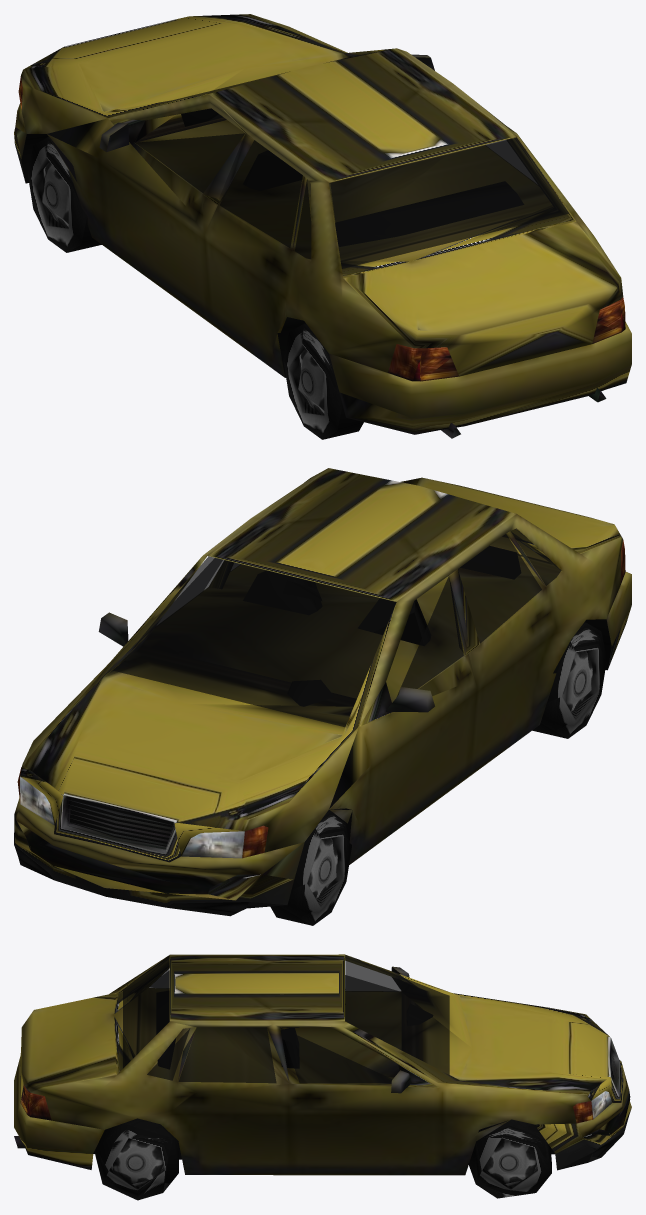
File: c_sedan_lo.glb
The picture shows the model from 3 angles, top to bottom: view 1: azimuth 30°, elevation 25°; view 2: azimuth 150°, elevation 25°; view 3: azimuth 270°, elevation 25°; orthographic projection. The views are drawn at different scales.
Visible parts, largest first — view 1: body|Body_5, body|glass, body|Wheel_4, body|Optics_5; view 2: body|Body_5, body|glass, body|Wheel_4, body|Optics_5; view 3: body|Body_5, body|glass, body|Wheel_4, body|Optics_5.
Boxes of the visible parts, x1,y1,x2,y2 form: body|Body_5: (14,14,631,438); body|glass: (135,48,568,268); body|Wheel_4: (27,137,363,439); body|Optics_5: (18,76,625,381); body|Body_5: (14,468,631,916); body|glass: (112,529,561,727); body|Wheel_4: (270,622,606,925); body|Optics_5: (17,540,625,878); body|Body_5: (14,954,631,1175); body|glass: (123,955,449,1083); body|Wheel_4: (94,1118,551,1200); body|Optics_5: (20,1085,612,1136).
Bounding box in the file's own units: 1.94 × 1.34 × 4.34.
4 materials, 3 textured.
